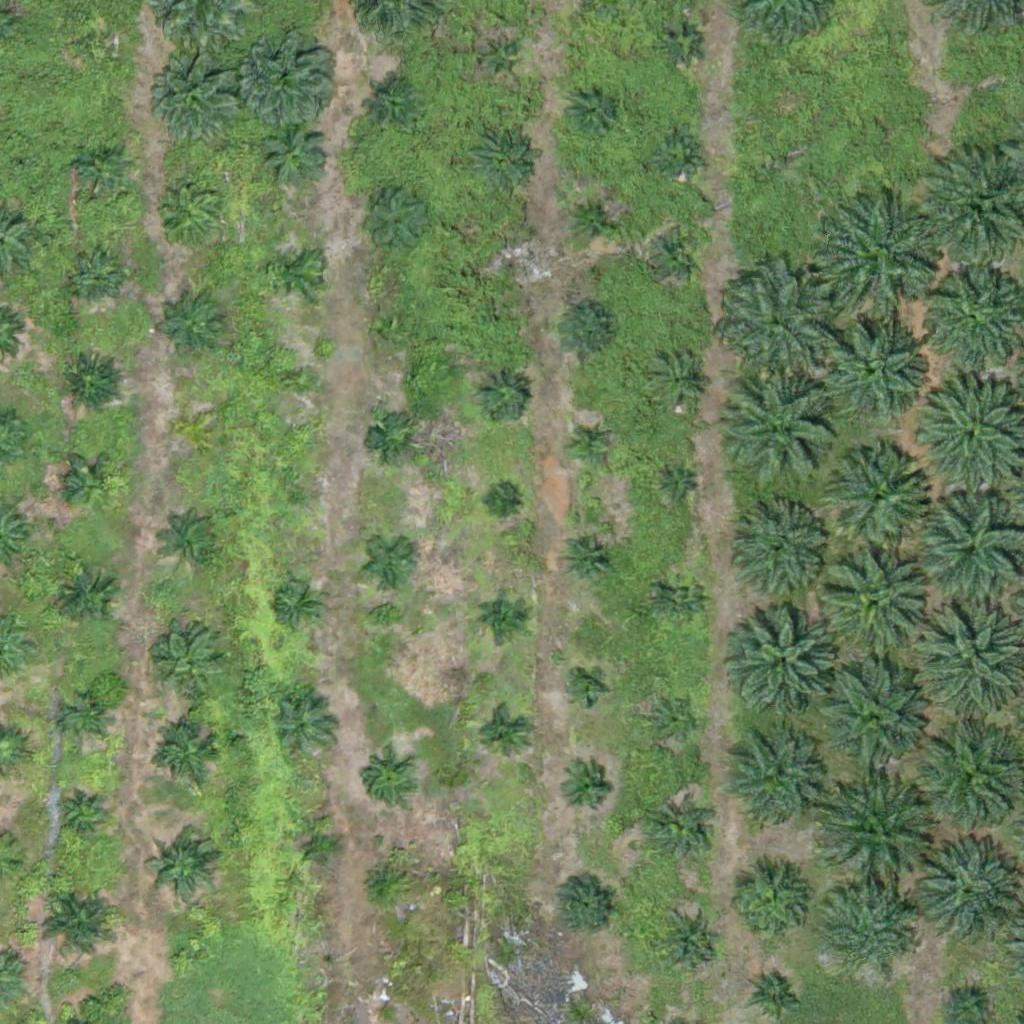Kelapa_Sawit: (820, 194, 945, 320), (908, 836, 1021, 949), (822, 780, 934, 894), (818, 664, 930, 778), (821, 547, 933, 661), (721, 267, 833, 380), (730, 373, 842, 486), (823, 317, 923, 418), (829, 445, 929, 546), (242, 26, 342, 127), (922, 266, 1022, 366), (734, 611, 834, 711), (722, 737, 822, 837), (724, 860, 811, 948), (739, 507, 826, 595), (155, 59, 242, 147), (824, 887, 911, 975), (36, 880, 123, 968), (144, 831, 219, 907), (356, 182, 431, 257), (659, 912, 722, 975), (273, 695, 336, 758), (554, 871, 617, 934), (161, 294, 224, 357), (60, 349, 123, 412), (70, 139, 133, 202), (554, 299, 617, 362), (653, 802, 715, 865), (56, 566, 118, 629), (156, 723, 218, 786), (158, 633, 221, 695), (164, 511, 226, 574), (472, 130, 534, 193), (263, 121, 325, 184), (161, 184, 223, 247), (476, 708, 526, 759), (560, 762, 610, 813), (653, 356, 703, 407), (269, 244, 319, 295), (476, 369, 526, 420), (569, 191, 619, 242), (294, 821, 344, 872), (356, 856, 406, 907), (658, 574, 708, 624), (478, 591, 528, 641), (366, 536, 416, 586), (66, 458, 116, 508), (273, 579, 323, 629), (361, 754, 411, 804), (68, 251, 118, 301), (567, 82, 617, 132), (368, 416, 418, 466), (653, 229, 703, 279), (656, 19, 706, 69), (652, 130, 702, 180), (472, 34, 522, 84), (564, 419, 614, 469), (647, 693, 697, 743), (563, 533, 613, 583), (55, 789, 104, 840), (376, 312, 414, 350), (567, 668, 605, 706), (374, 88, 412, 125), (82, 26, 120, 63), (65, 698, 102, 736), (499, 245, 524, 270), (665, 474, 690, 499), (488, 488, 513, 513), (287, 481, 312, 506), (287, 365, 312, 390), (182, 419, 207, 444), (172, 946, 197, 971), (9, 156, 34, 181)
